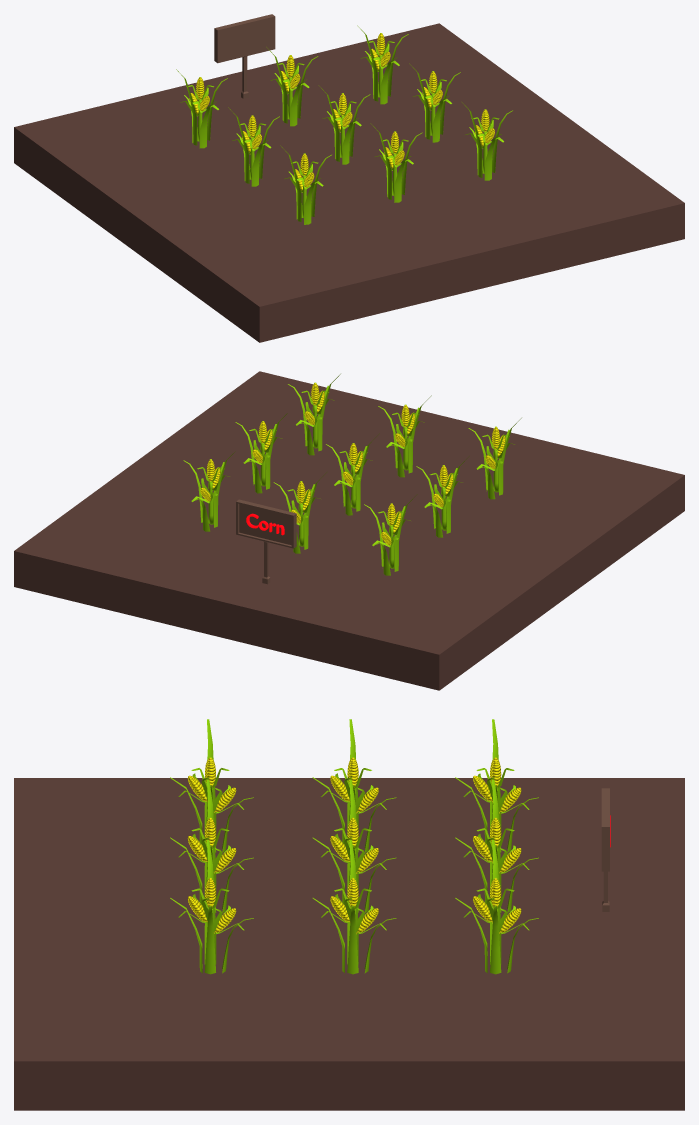
The model's file is Corn_A.fbx.
The picture shows the model from 3 angles, top to bottom: view 1: azimuth 30°, elevation 25°; view 2: azimuth 150°, elevation 25°; view 3: azimuth 270°, elevation 25°; orthographic projection. The views are drawn at different scales.
Visible parts, largest first — view 1: Cube.044, Plane.010, Cube.063; view 2: Cube.044, Plane.010, Cube.063; view 3: Cube.044, Plane.010, Cube.063.
Boxes of the visible parts, <box> form: Cube.044: <box>14,23,684,342</box>; Plane.010: <box>176,25,512,224</box>; Cube.063: <box>214,14,275,98</box>; Cube.044: <box>14,371,684,690</box>; Plane.010: <box>183,374,521,575</box>; Cube.063: <box>236,499,296,584</box>; Cube.044: <box>14,778,684,1110</box>; Plane.010: <box>170,719,538,974</box>; Cube.063: <box>601,788,610,911</box>.
Bounding box in the file's own units: 2690 × 746 × 2690.
